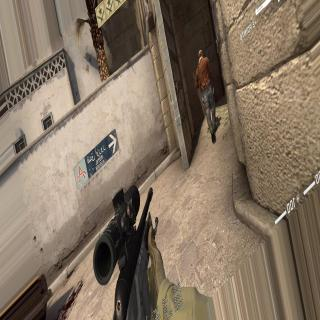T-Body: (194, 49, 217, 142)
T-Head: (198, 49, 204, 60)
